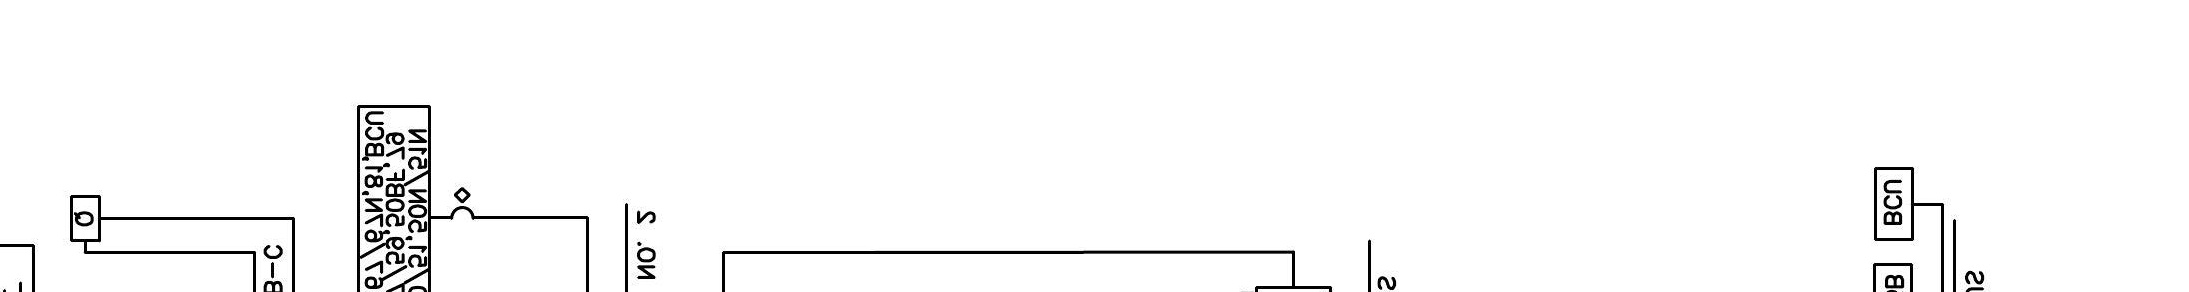BCU: (1873, 166, 1915, 242)
Q: (70, 194, 102, 243)
